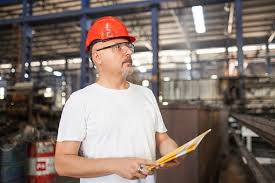Person_wearing_helmet: (77, 12, 138, 58)
